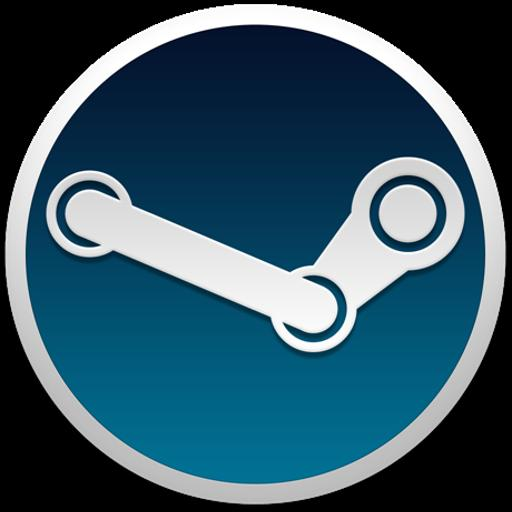Steam: (0, 3, 512, 509)
